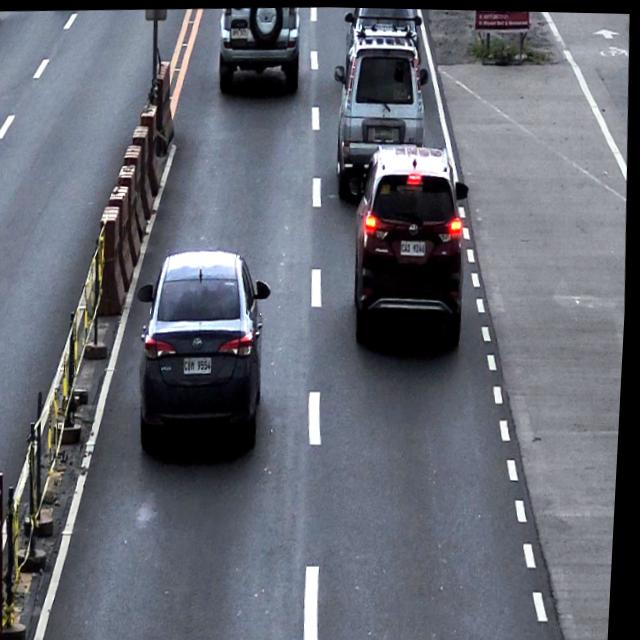Car: (132, 245, 282, 457), (351, 139, 478, 350), (328, 21, 435, 196), (215, 4, 303, 97), (341, 6, 424, 81)
License-Plate: (186, 354, 216, 374), (402, 237, 429, 255), (374, 122, 397, 140), (230, 26, 250, 40)
